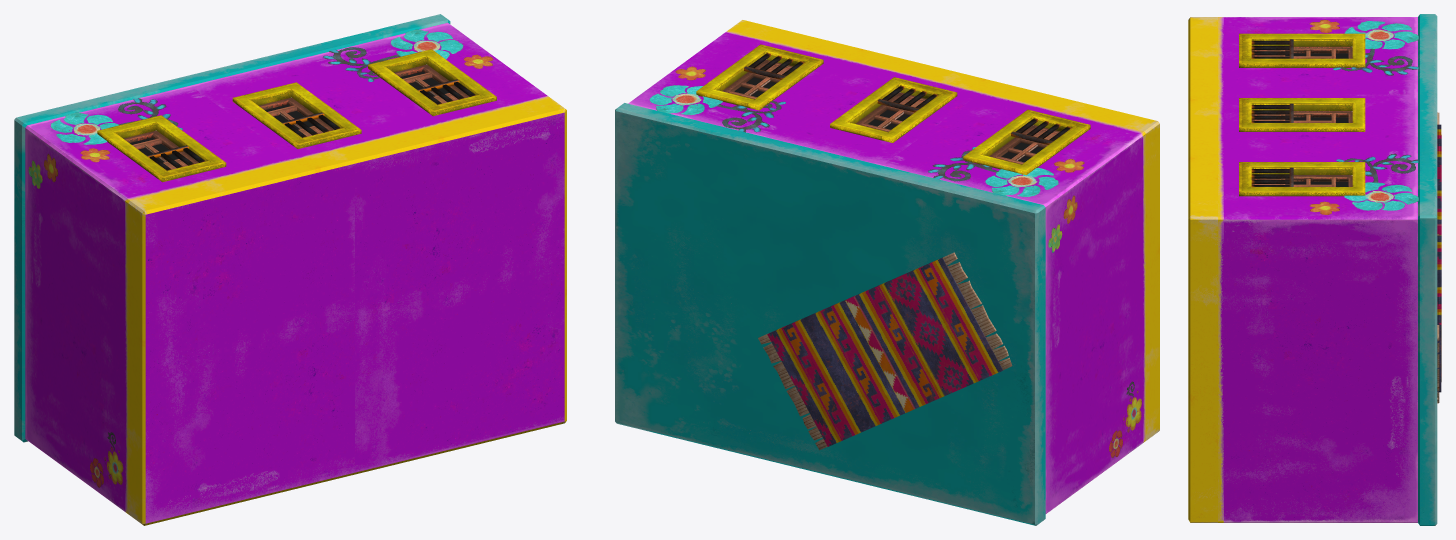
File: Town001.obj
The picture shows the model from 3 angles, left to right: view 1: azimuth 30°, elevation 25°; view 2: azimuth 150°, elevation 25°; view 3: azimuth 270°, elevation 25°; orthographic projection. The views are drawn at different scales.
Parts seen in each view (by area): view 1: pCube8__WallClayColor06_rep, pCube8__WallClayColor02_rep, polySurface601_1__HouseMultiSet01, pCube50__WallClayColor01_rep, pCylinder642__MarkPaintSet00, mesh2_low1_1__HouseMultiSet00, mesh3_low_1__FenceMetalPattern00; view 2: pCube50__WallClayColor01_rep, pCube8__WallClayColor06_rep, polySurface587__TapeteBigCloth02, pCube8__WallClayColor02_rep, polySurface601_1__HouseMultiSet01, pCylinder642__MarkPaintSet00, mesh2_low1_1__HouseMultiSet00, mesh3_low_1__FenceMetalPattern00; view 3: pCube8__WallClayColor06_rep, pCube8__WallClayColor02_rep, pCube50__WallClayColor01_rep, polySurface601_1__HouseMultiSet01, pCylinder642__MarkPaintSet00, mesh2_low1_1__HouseMultiSet00, mesh3_low_1__FenceMetalPattern00, polySurface587__TapeteBigCloth02.
Boxes of the visible parts, <box> form: pCube8__WallClayColor06_rep: <box>25,23,564,523</box>; pCube8__WallClayColor02_rep: <box>128,98,566,525</box>; polySurface601_1__HouseMultiSet01: <box>97,49,496,182</box>; pCube50__WallClayColor01_rep: <box>14,14,450,442</box>; pCylinder642__MarkPaintSet00: <box>28,29,493,487</box>; mesh2_low1_1__HouseMultiSet00: <box>123,64,469,169</box>; mesh3_low_1__FenceMetalPattern00: <box>146,79,475,170</box>; pCube50__WallClayColor01_rep: <box>615,103,1045,525</box>; pCube8__WallClayColor06_rep: <box>628,30,1145,513</box>; polySurface587__TapeteBigCloth02: <box>758,252,1012,450</box>; pCube8__WallClayColor02_rep: <box>729,20,1159,440</box>; polySurface601_1__HouseMultiSet01: <box>696,44,1090,174</box>; pCylinder642__MarkPaintSet00: <box>649,66,1141,457</box>; mesh2_low1_1__HouseMultiSet00: <box>722,59,1059,164</box>; mesh3_low_1__FenceMetalPattern00: <box>744,53,1071,144</box>; pCube8__WallClayColor06_rep: <box>1218,17,1417,522</box>; pCube8__WallClayColor02_rep: <box>1188,17,1217,522</box>; pCube50__WallClayColor01_rep: <box>1418,14,1437,525</box>; polySurface601_1__HouseMultiSet01: <box>1239,33,1365,196</box>; pCylinder642__MarkPaintSet00: <box>1309,19,1418,214</box>; mesh2_low1_1__HouseMultiSet00: <box>1251,46,1352,186</box>; mesh3_low_1__FenceMetalPattern00: <box>1251,39,1293,186</box>; polySurface587__TapeteBigCloth02: <box>1437,112,1441,403</box>.
Bounding box in the file's own units: 1186 × 817 × 601.
9 materials, 8 textured.
